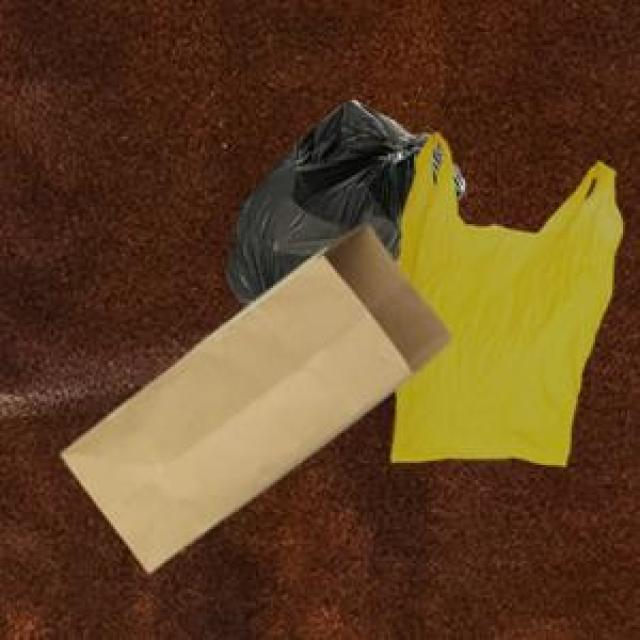miscellaneous trash: (224, 96, 461, 301)
paper: (58, 220, 446, 568)
